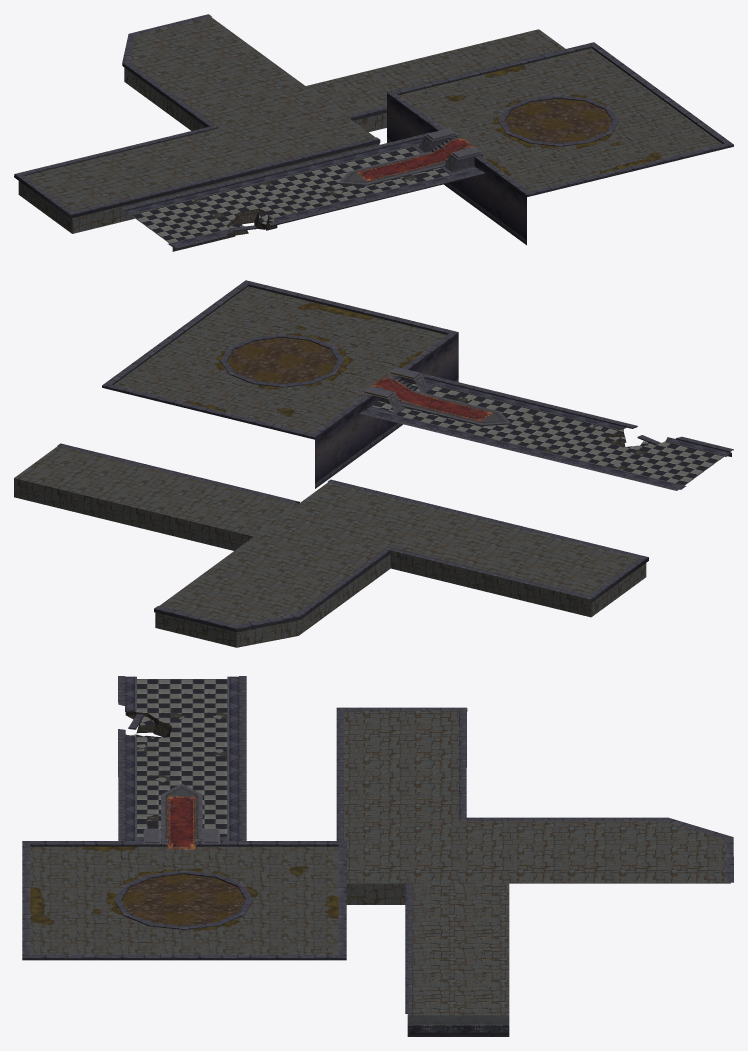
File: terrain_section02_guanka05.FBX
The picture shows the model from 3 angles, top to bottom: view 1: azimuth 30°, elevation 25°; view 2: azimuth 150°, elevation 25°; view 3: azimuth 270°, elevation 25°; orthographic projection. The views are drawn at different scales.
Parts seen in each view (by area): view 1: terrain_section02_guanka06; view 2: terrain_section02_guanka06; view 3: terrain_section02_guanka06.
Part boxes in pixels (box(x1,y1,x2,y2)): terrain_section02_guanka06: box(14, 14, 733, 251); terrain_section02_guanka06: box(14, 280, 733, 647); terrain_section02_guanka06: box(22, 676, 733, 1036).
Bounding box in the file's own units: 122 × 121 × 13.69.
